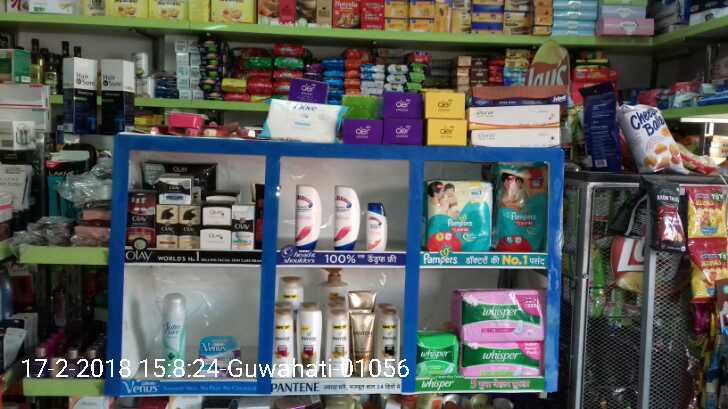venus: (164, 295, 184, 376), (200, 339, 240, 373)
